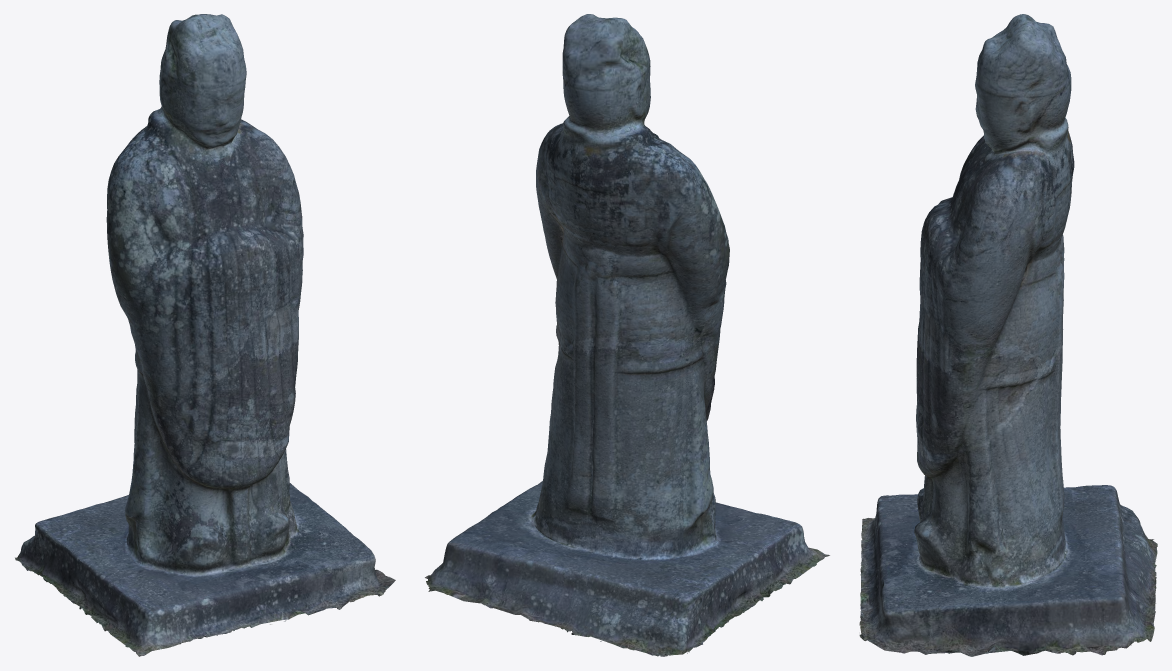
File: literatus.glb
3 views of the same model, side by side, from view 1: azimuth 30°, elevation 25°; view 2: azimuth 150°, elevation 25°; view 3: azimuth 270°, elevation 25° (orthographic). The views are drawn at different scales.
Parts seen in each view (by area): view 1: Object_2; view 2: Object_2; view 3: Object_2.
Boxes of the visible parts, x1,y1,x2,y2 form: Object_2: [15, 14, 395, 656]; Object_2: [425, 14, 829, 656]; Object_2: [859, 14, 1157, 656].
Size of the model in its own units: 1.15 by 2.27 by 1.07.
Materials: 1 (1 with a texture image).
